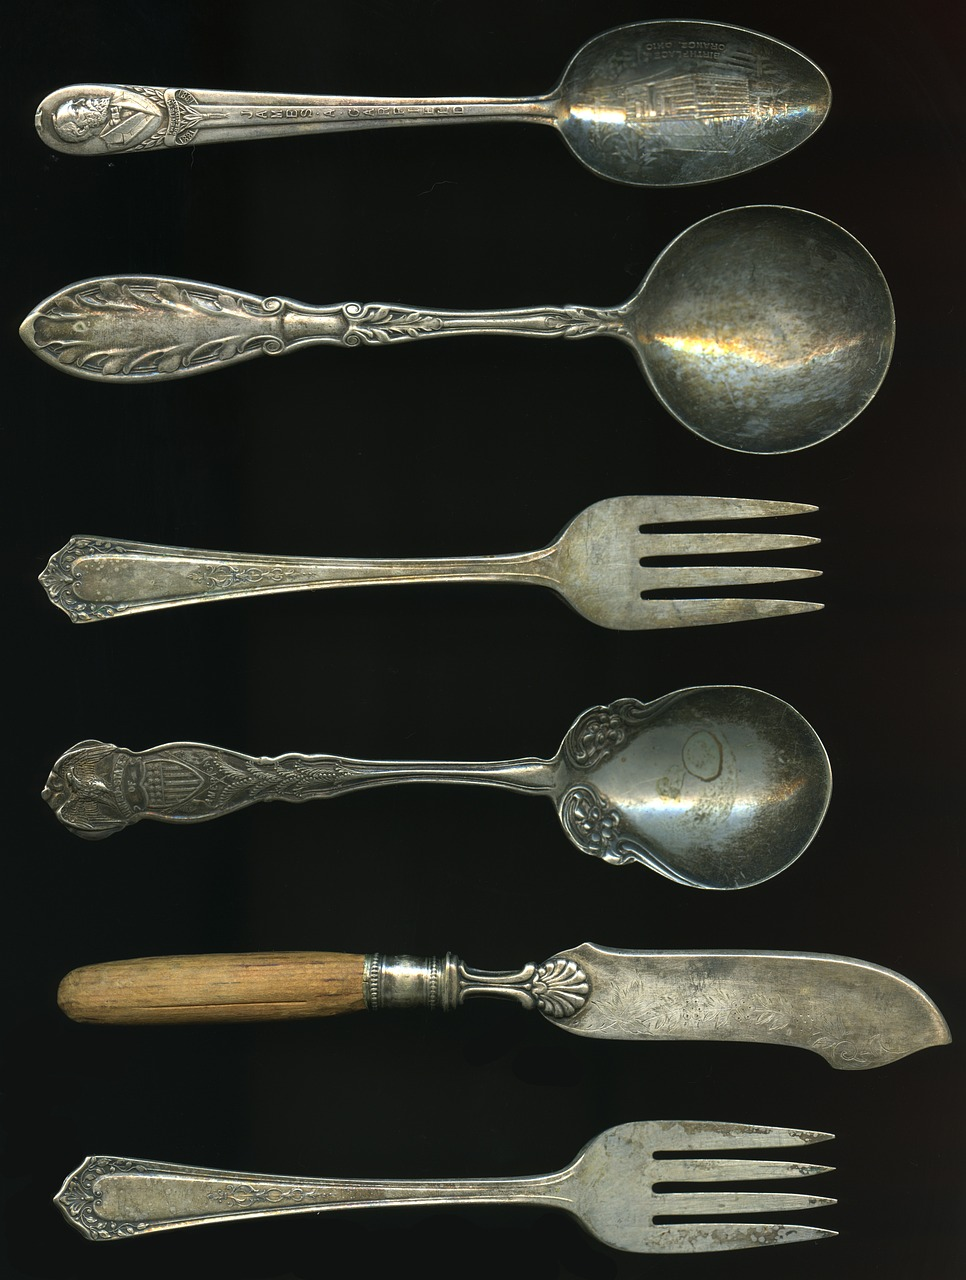knife: (49, 936, 959, 1079)
